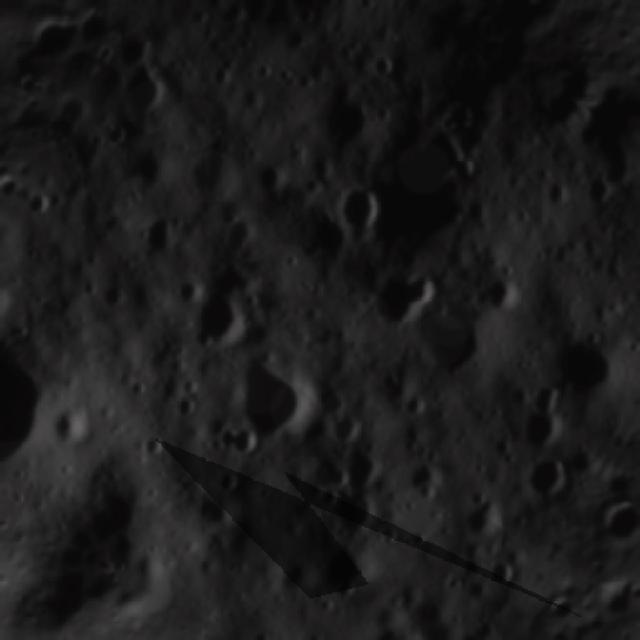crater: (401, 284, 514, 394), (0, 337, 74, 498), (218, 351, 320, 451), (354, 250, 449, 348), (540, 328, 628, 410), (504, 378, 579, 460), (112, 54, 185, 128), (327, 177, 396, 252), (308, 540, 379, 608), (42, 394, 106, 460), (184, 287, 244, 351), (328, 611, 457, 640), (133, 208, 190, 268), (337, 441, 394, 497), (476, 269, 532, 325), (520, 449, 574, 502), (249, 156, 305, 207), (459, 492, 513, 543), (324, 486, 378, 536), (443, 148, 492, 194), (576, 168, 622, 210), (404, 458, 447, 502), (481, 553, 524, 596), (95, 118, 137, 162), (95, 275, 136, 320), (370, 516, 412, 559), (22, 186, 64, 228), (325, 406, 364, 448), (539, 174, 579, 214), (364, 49, 398, 85), (462, 574, 496, 606), (210, 465, 244, 497), (248, 55, 280, 88), (207, 61, 239, 93), (174, 371, 206, 403), (173, 275, 204, 308), (183, 2, 215, 33), (220, 0, 254, 29), (402, 390, 432, 422), (168, 394, 200, 424), (280, 24, 311, 54), (238, 288, 268, 318), (0, 276, 17, 326), (138, 431, 167, 460), (123, 372, 152, 401), (278, 250, 302, 276), (241, 624, 280, 640), (372, 102, 396, 127), (184, 0, 218, 8), (638, 338, 640, 376)
